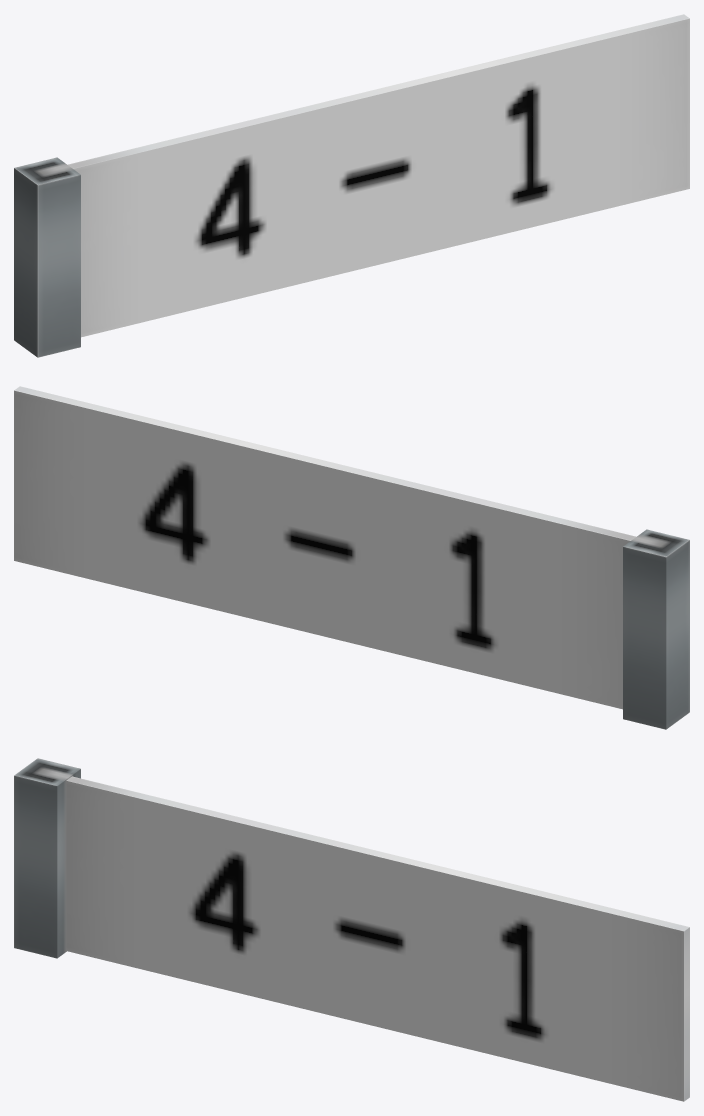
Rendered from SHW_NamePlate_01_04_01.fbx.
3 views of the same model, one above another, from view 1: azimuth 30°, elevation 25°; view 2: azimuth 150°, elevation 25°; view 3: azimuth 330°, elevation 25° (orthographic).
Parts seen in each view (by area): view 1: shw_nameplate_01_04_01; view 2: shw_nameplate_01_04_01; view 3: shw_nameplate_01_04_01.
Part boxes in pixels (left/top/right/bottom): shw_nameplate_01_04_01: left=14, top=14, right=689, bottom=357; shw_nameplate_01_04_01: left=14, top=386, right=689, bottom=729; shw_nameplate_01_04_01: left=14, top=758, right=689, bottom=1101.
Bounding box in the file's own units: 32.1 × 8 × 2.
